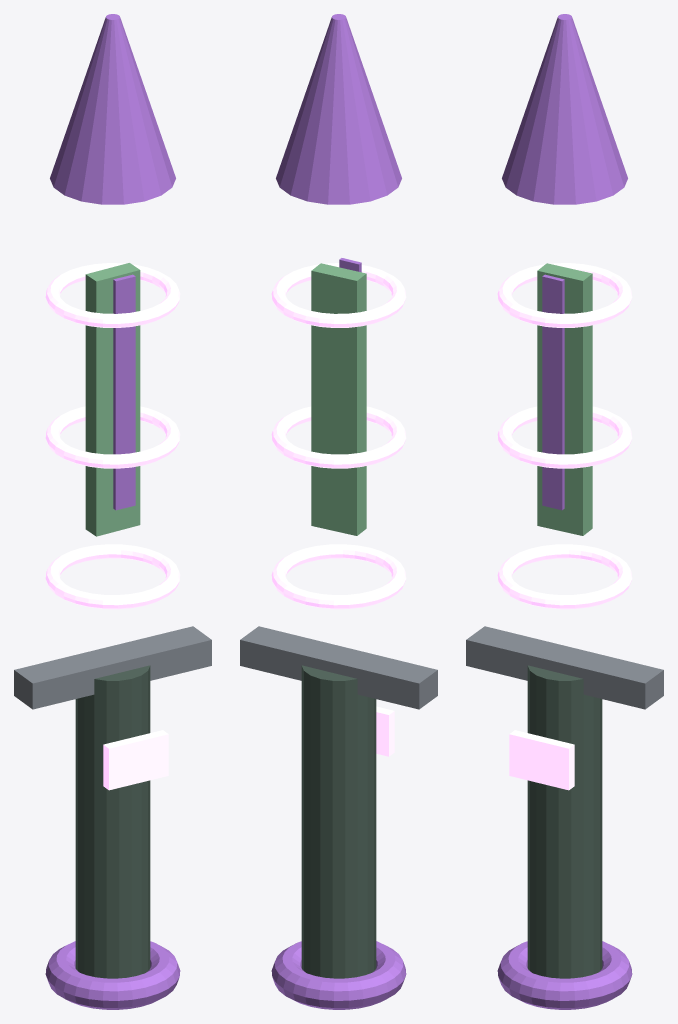
File: asset.glb
The picture shows the model from 3 angles, left to right: view 1: azimuth 30°, elevation 25°; view 2: azimuth 150°, elevation 25°; view 3: azimuth 330°, elevation 25°; orthographic projection.
Parts seen in each view (by area): view 1: Grip, BladeTip, BladeCore, Guard, Pommel, BladeEdge, EnergyBand_1.18, EnergyBand_2.26, EnergyBand_1.72, IdentityPlate; view 2: Grip, BladeTip, BladeCore, Guard, Pommel, EnergyBand_1.18, EnergyBand_2.26, EnergyBand_1.72, IdentityPlate; view 3: Grip, BladeTip, BladeCore, Guard, Pommel, BladeEdge, EnergyBand_1.18, EnergyBand_2.26, EnergyBand_1.72, IdentityPlate.
Part boxes in pixels (x1=…): Grip: x1=75, y1=665, x2=150, y2=978; BladeTip: x1=50, y1=14, x2=175, y2=204; BladeCore: x1=85, y1=263, x2=140, y2=536; Guard: x1=14, y1=626, x2=211, y2=709; Pommel: x1=45, y1=941, x2=180, y2=1009; BladeEdge: x1=113, y1=274, x2=135, y2=510; EnergyBand_1.18: x1=45, y1=544, x2=180, y2=609; EnergyBand_2.26: x1=45, y1=263, x2=180, y2=327; EnergyBand_1.72: x1=45, y1=406, x2=180, y2=468; IdentityPlate: x1=103, y1=730, x2=168, y2=790; Grip: x1=301, y1=665, x2=376, y2=978; BladeTip: x1=276, y1=14, x2=401, y2=204; BladeCore: x1=311, y1=263, x2=366, y2=535; Guard: x1=240, y1=626, x2=437, y2=709; Pommel: x1=271, y1=941, x2=406, y2=1009; EnergyBand_1.18: x1=271, y1=544, x2=406, y2=609; EnergyBand_2.26: x1=271, y1=263, x2=406, y2=327; EnergyBand_1.72: x1=271, y1=406, x2=406, y2=468; IdentityPlate: x1=376, y1=706, x2=394, y2=756; Grip: x1=527, y1=665, x2=602, y2=978; BladeTip: x1=502, y1=14, x2=627, y2=204; BladeCore: x1=537, y1=263, x2=592, y2=535; Guard: x1=466, y1=626, x2=663, y2=709; Pommel: x1=497, y1=941, x2=632, y2=1009; BladeEdge: x1=542, y1=274, x2=564, y2=510; EnergyBand_1.18: x1=497, y1=544, x2=632, y2=609; EnergyBand_2.26: x1=497, y1=263, x2=632, y2=327; EnergyBand_1.72: x1=497, y1=406, x2=632, y2=468; IdentityPlate: x1=509, y1=730, x2=574, y2=790.
Size of the model in its own units: 0.72 by 3.72 by 0.47.
